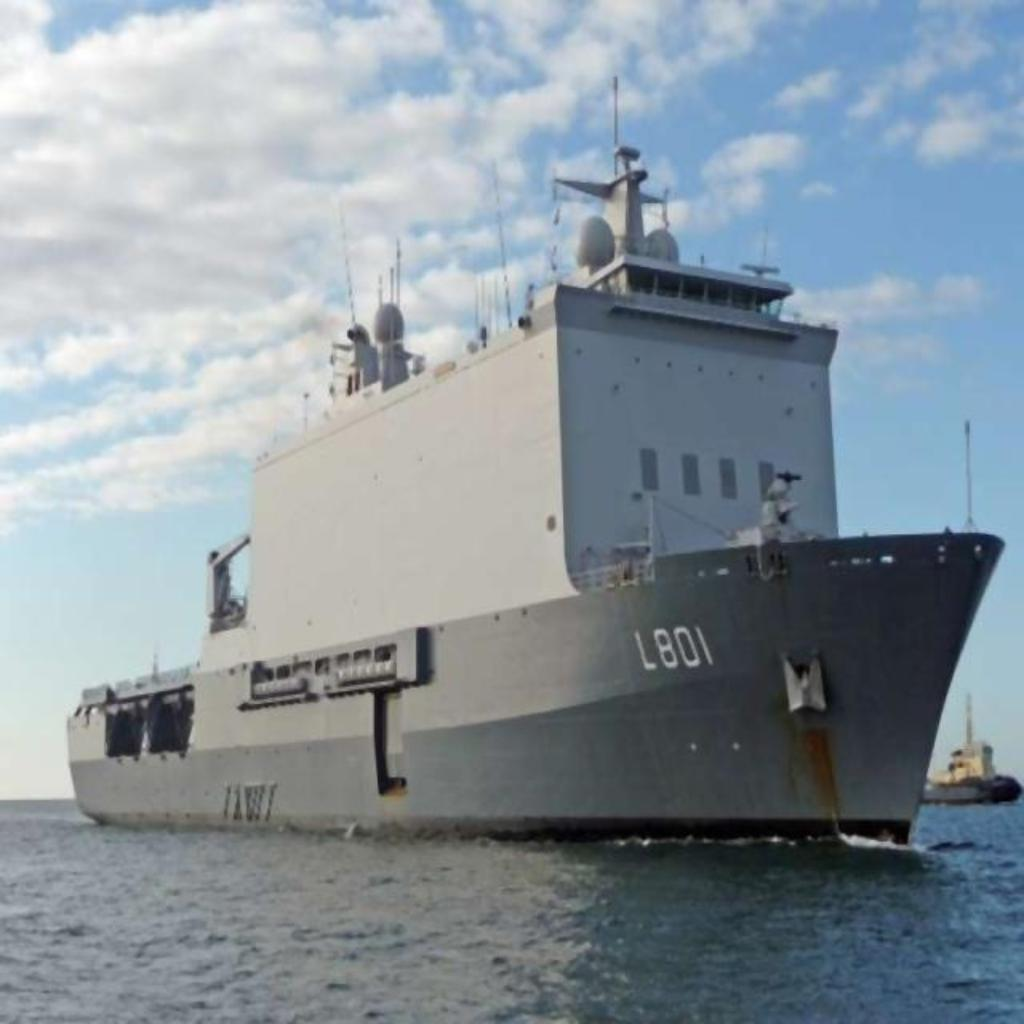Warship: (38, 140, 1014, 864)
